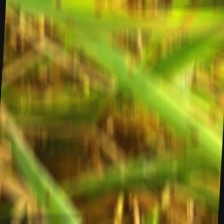Bacterial_Leaf_Blight: (187, 130, 205, 143), (90, 3, 105, 14), (44, 193, 53, 204), (125, 63, 138, 70), (52, 0, 65, 6)
